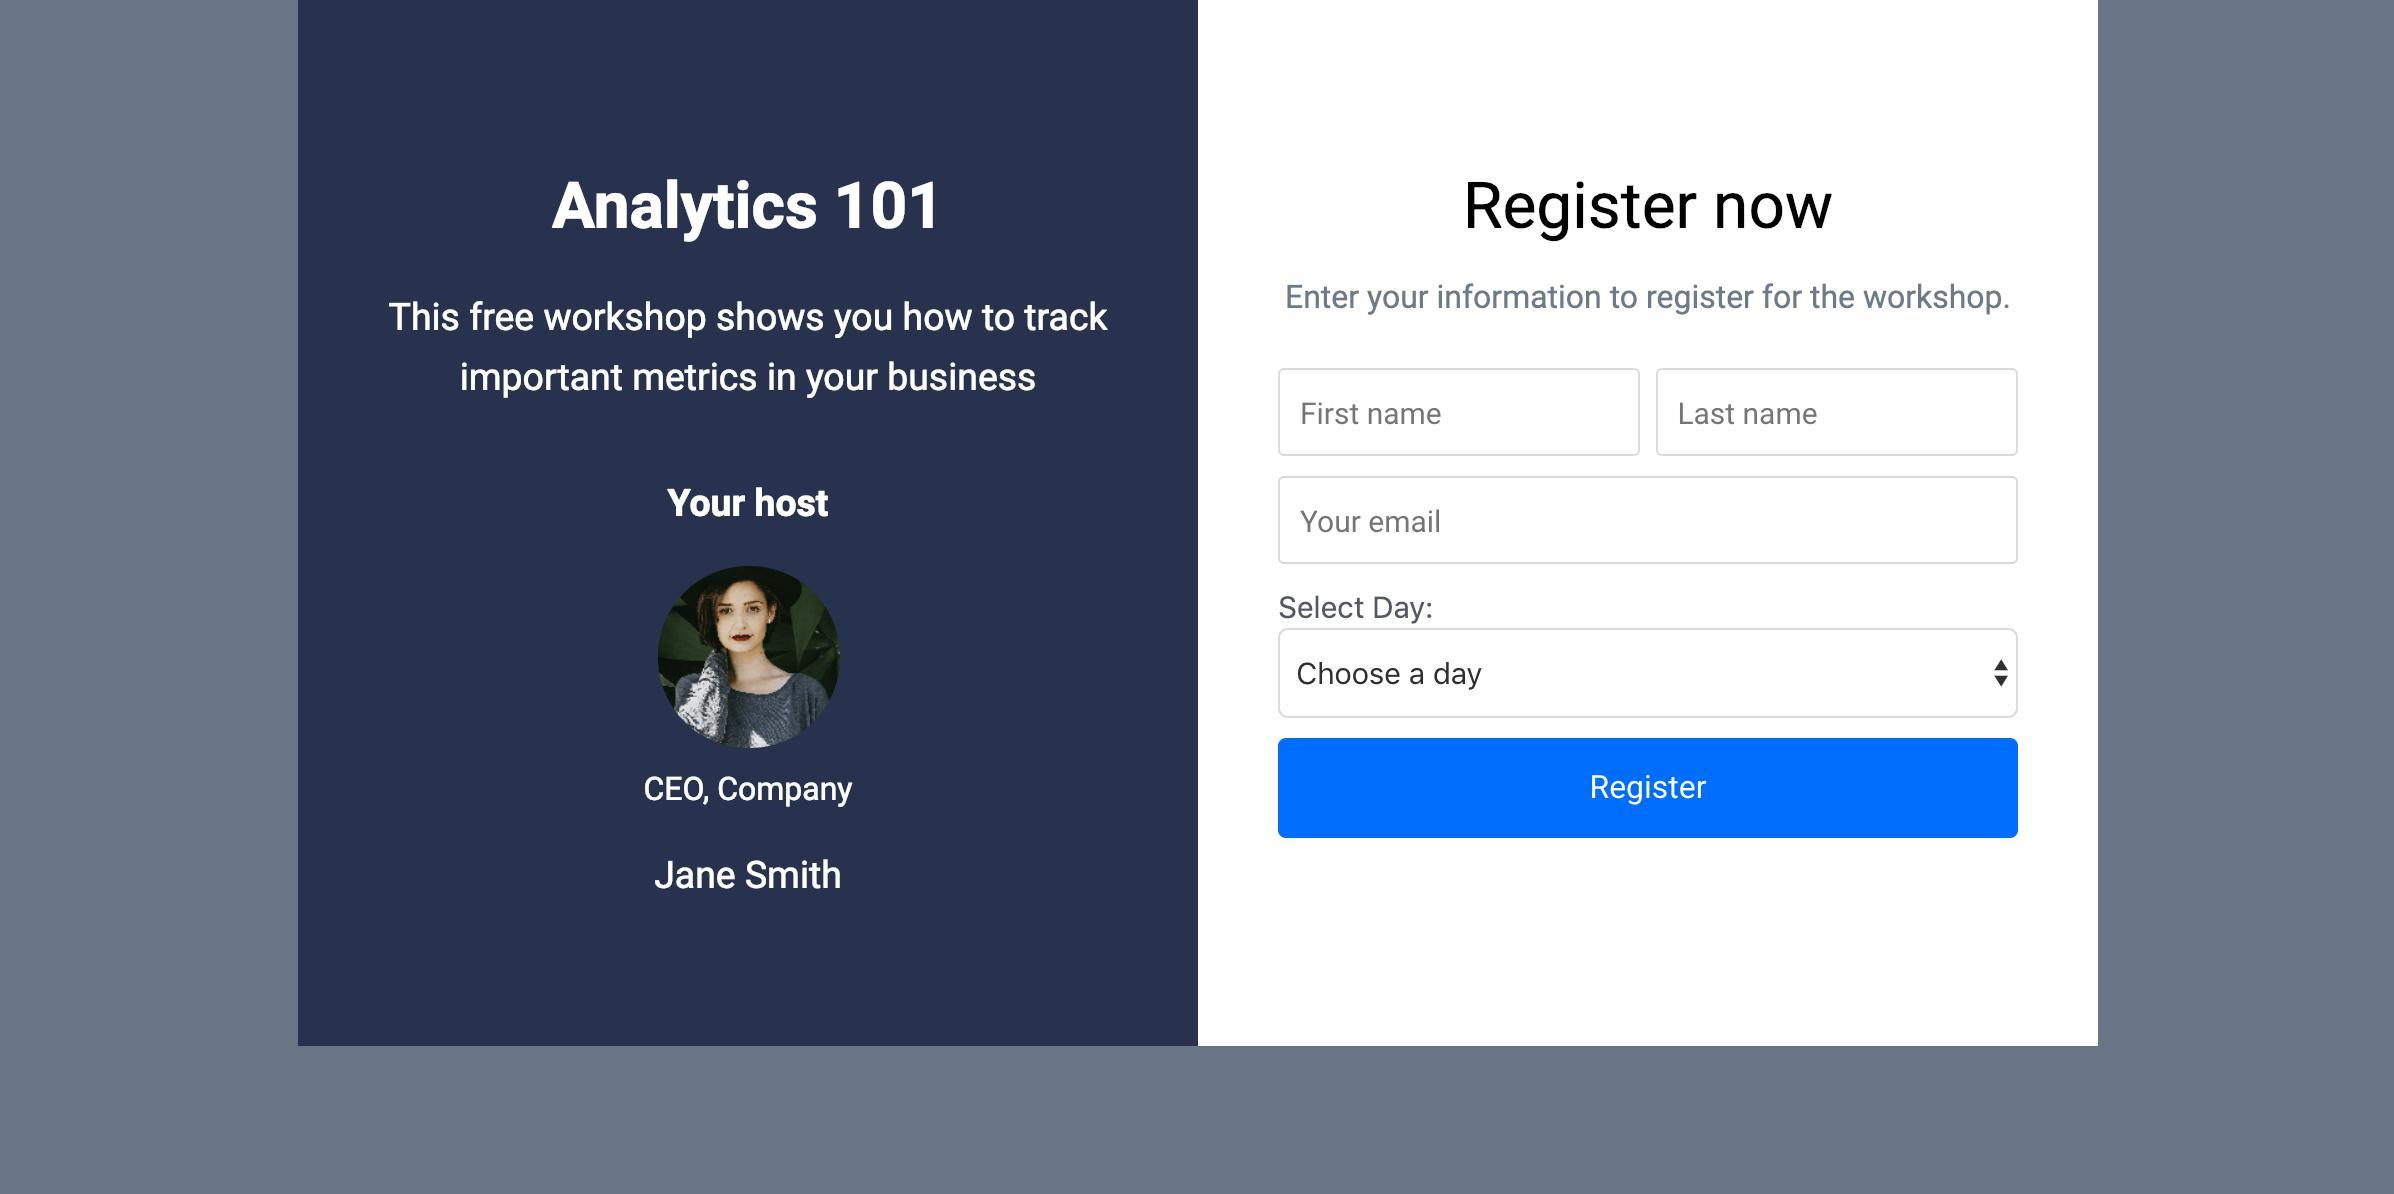button: (1279, 737, 2021, 838)
dropdown: (1279, 629, 2023, 715)
input: (1276, 473, 2021, 565), (1657, 369, 2020, 455), (1276, 371, 1641, 455)
label: (1282, 592, 1446, 624)
